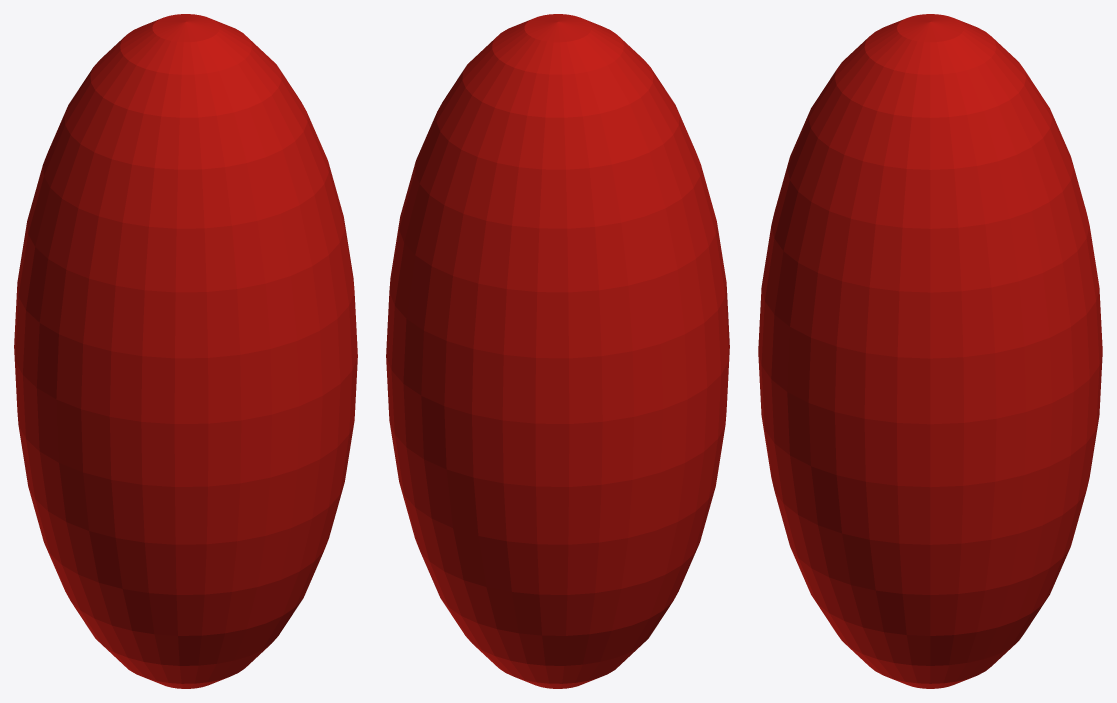
The model's file is CHAR_Dummy_proxy.obj.
The picture shows the model from 3 angles, left to right: view 1: azimuth 30°, elevation 25°; view 2: azimuth 150°, elevation 25°; view 3: azimuth 270°, elevation 25°; orthographic projection.
Visible parts, largest first — view 1: CHAR_Dummy_proxy; view 2: CHAR_Dummy_proxy; view 3: CHAR_Dummy_proxy.
Part boxes in pixels (<box>): CHAR_Dummy_proxy: <box>14,14,357,688</box>; CHAR_Dummy_proxy: <box>386,14,729,688</box>; CHAR_Dummy_proxy: <box>758,14,1102,688</box>.
Size of the model in its own units: 0.9 by 1.9 by 0.9.
